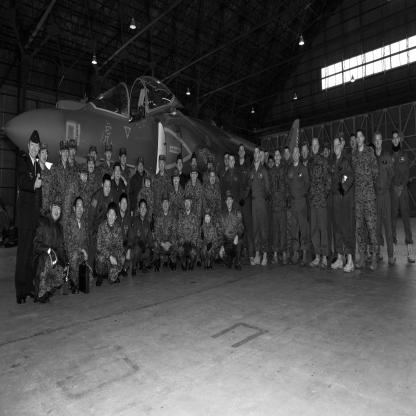AV8B: (3, 77, 301, 190)
